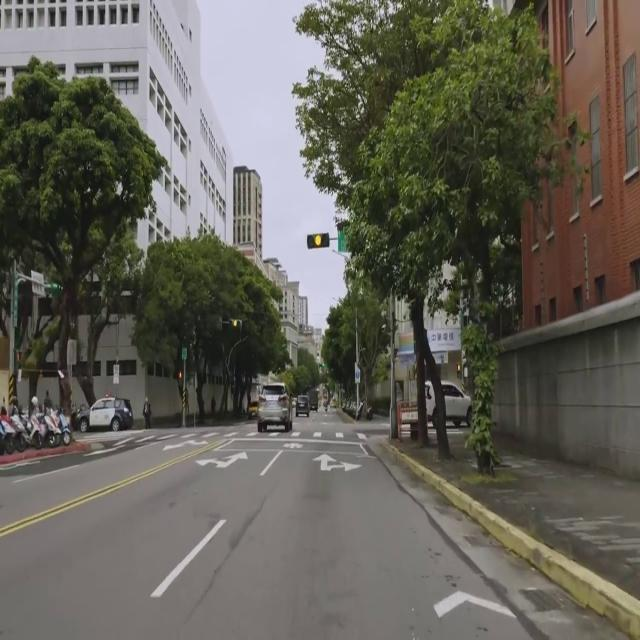yellow light: (306, 233, 330, 248), (229, 317, 242, 328)
